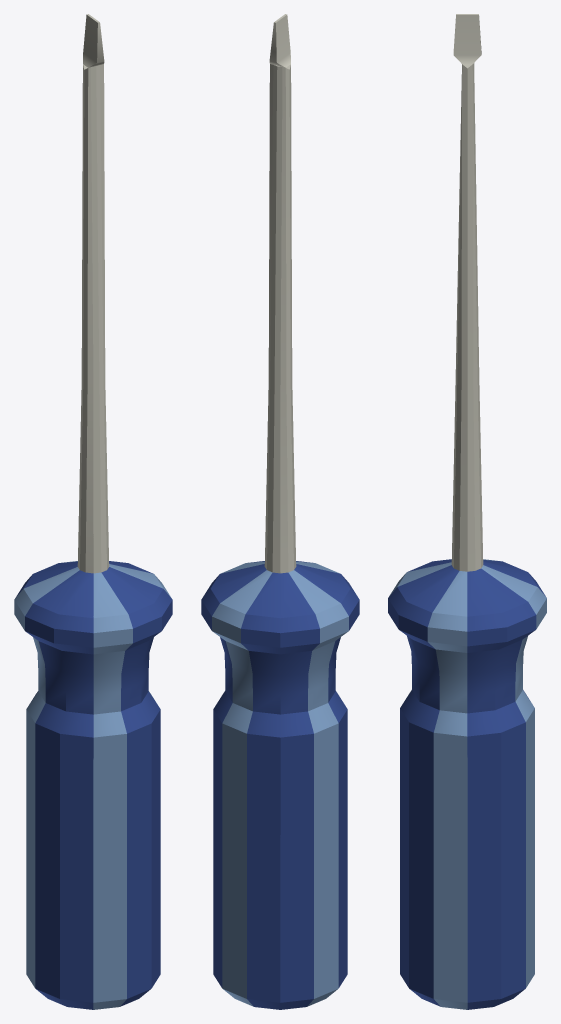
Rendered from Screw driver.fbx.
The picture shows the model from 3 angles, left to right: view 1: azimuth 30°, elevation 25°; view 2: azimuth 150°, elevation 25°; view 3: azimuth 270°, elevation 25°; orthographic projection.
Parts seen in each view (by area): view 1: pCube2; view 2: pCube2; view 3: pCube2.
Boxes of the visible parts, x1=… form: pCube2: x1=14, y1=14, x2=172, y2=1009; pCube2: x1=201, y1=14, x2=359, y2=1009; pCube2: x1=388, y1=14, x2=546, y2=1009.
Size of the model in its own units: 14.46 by 97.85 by 14.46.
